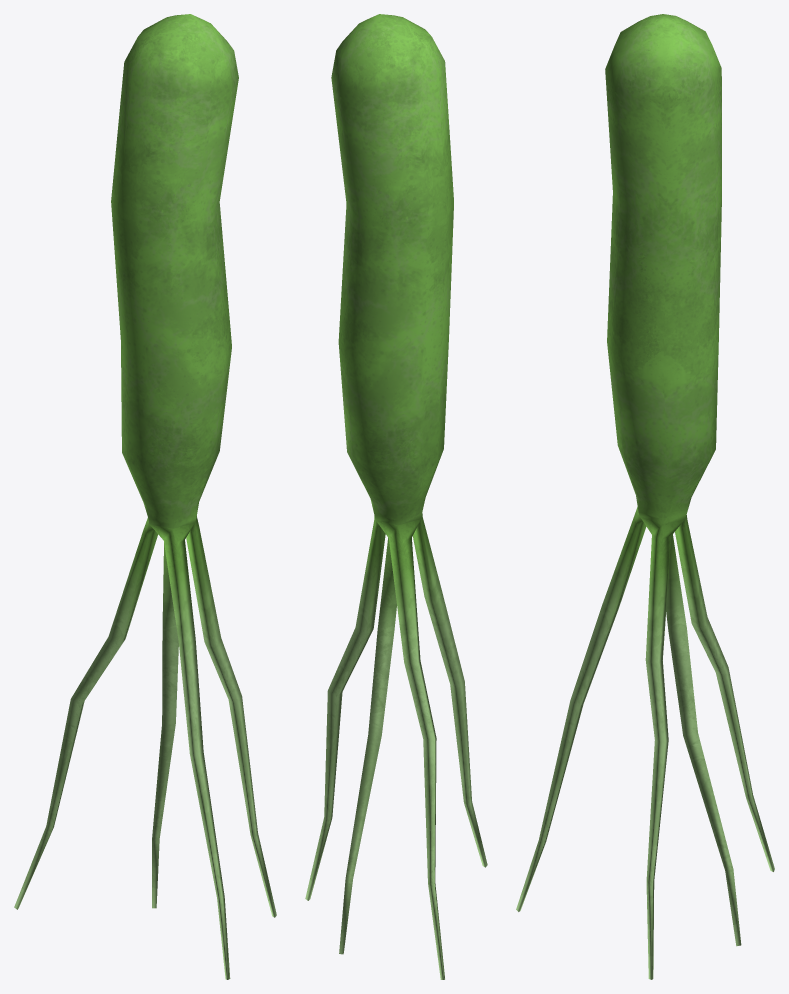
Rendered from Bakterija4Helicobacter.fbx.
3 renders of one model, left to right at view 1: azimuth 30°, elevation 25°; view 2: azimuth 150°, elevation 25°; view 3: azimuth 270°, elevation 25°, orthographic.
Visible parts, largest first — view 1: Helicobacter; view 2: Helicobacter; view 3: Helicobacter.
Boxes of the visible parts, x1,y1,x2,y2 form: Helicobacter: [14, 14, 276, 979]; Helicobacter: [305, 14, 487, 979]; Helicobacter: [516, 14, 774, 979].
Bounding box in the file's own units: 110 × 480 × 122.
